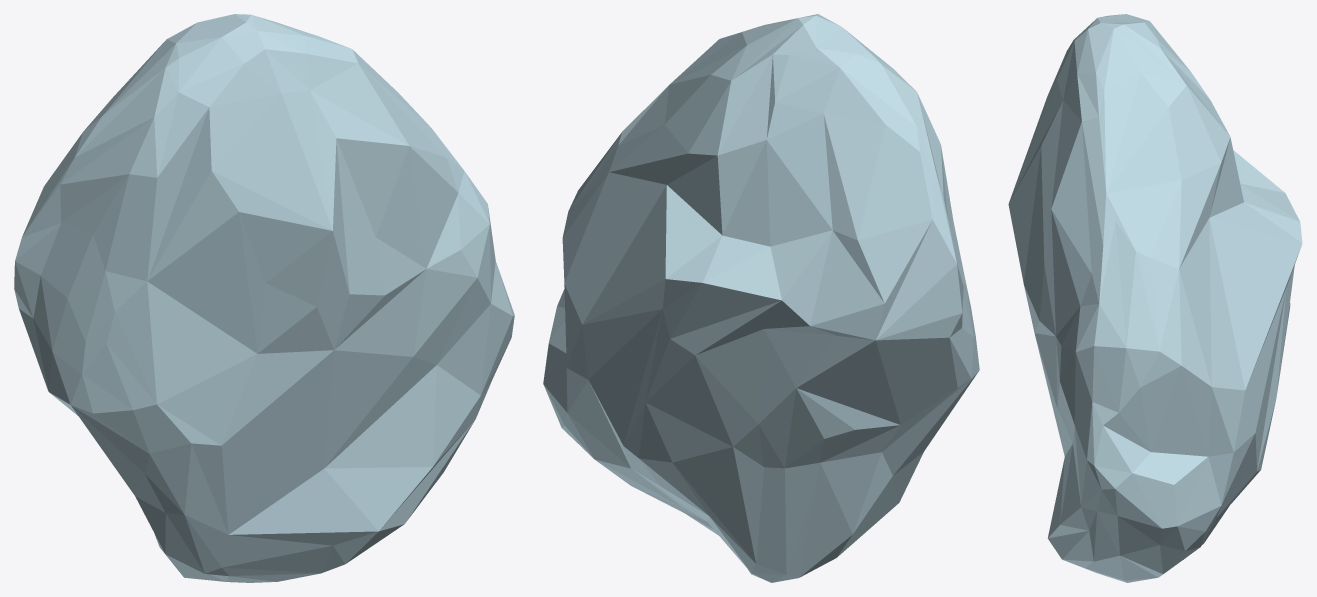
The model's file is LowPoly - Rock 03.fbx.
The picture shows the model from 3 angles, left to right: view 1: azimuth 30°, elevation 25°; view 2: azimuth 150°, elevation 25°; view 3: azimuth 270°, elevation 25°; orthographic projection. The views are drawn at different scales.
Visible parts, largest first — view 1: LowPoly - Rock 03; view 2: LowPoly - Rock 03; view 3: LowPoly - Rock 03.
Boxes of the visible parts, x1=… form: LowPoly - Rock 03: x1=14, y1=14, x2=514, y2=582; LowPoly - Rock 03: x1=543, y1=14, x2=979, y2=582; LowPoly - Rock 03: x1=1008, y1=14, x2=1302, y2=582.
Size of the model in its own units: 451 by 538 by 270.
